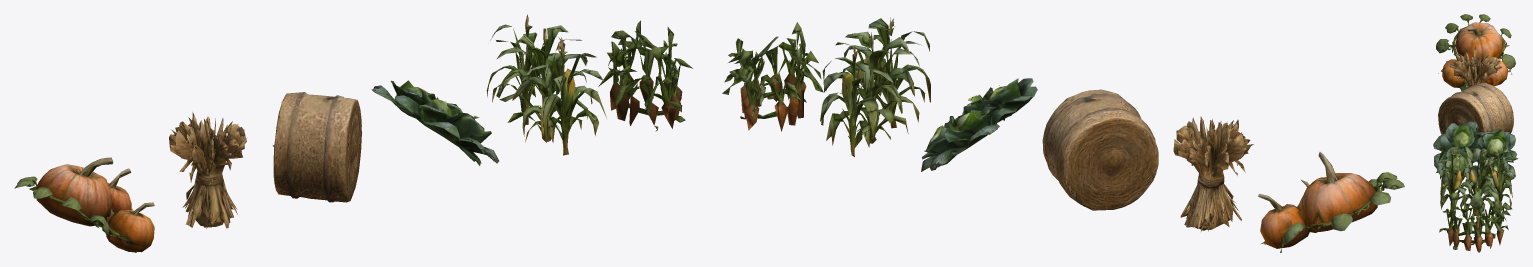
File: crops.glb
3 renders of one model, left to right at view 1: azimuth 30°, elevation 25°; view 2: azimuth 150°, elevation 25°; view 3: azimuth 270°, elevation 25°, orthographic. The views are drawn at different scales.
Parts seen in each view (by area): view 1: hay_bale, corn, pumpkins, wheat_sheaf, carrots, cabbage; view 2: hay_bale, corn, pumpkins, wheat_sheaf, carrots, cabbage; view 3: corn, pumpkins, cabbage, hay_bale, carrots, wheat_sheaf.
Part boxes in pixels (box(x1,y1,x2,y2)): hay_bale: box(272, 92, 361, 202); corn: box(486, 14, 606, 155); pumpkins: box(14, 157, 154, 252); wheat_sheaf: box(169, 112, 247, 228); carrots: box(598, 20, 692, 131); cabbage: box(371, 80, 499, 165); hay_bale: box(1042, 89, 1158, 210); corn: box(820, 17, 930, 156); pumpkins: box(1258, 152, 1404, 252); wheat_sheaf: box(1173, 116, 1253, 231); carrots: box(722, 22, 823, 131); cabbage: box(921, 78, 1037, 171); corn: box(1436, 146, 1515, 216); pumpkins: box(1436, 14, 1515, 91); cabbage: box(1433, 121, 1518, 196); hay_bale: box(1438, 82, 1513, 134); carrots: box(1439, 188, 1512, 252); wheat_sheaf: box(1450, 46, 1501, 86).
Size of the model in its own units: 1.74 by 0.2896 by 0.318.
Materials: 1 (1 with a texture image).
